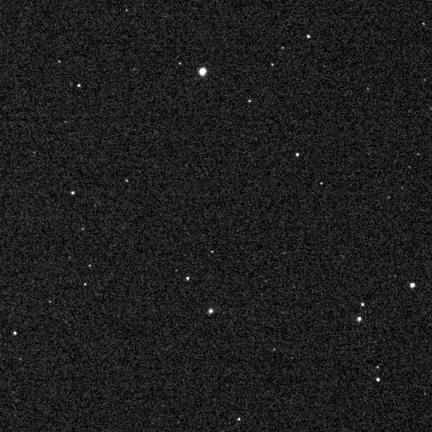blob: (199, 68, 206, 76), (410, 283, 415, 288), (208, 309, 213, 314), (357, 317, 361, 322), (296, 153, 300, 158), (307, 35, 311, 39), (271, 64, 275, 67), (248, 100, 252, 103), (376, 378, 380, 381), (84, 283, 87, 287), (186, 277, 189, 280), (13, 332, 16, 335), (77, 84, 80, 87), (361, 303, 364, 306), (71, 192, 75, 194)
